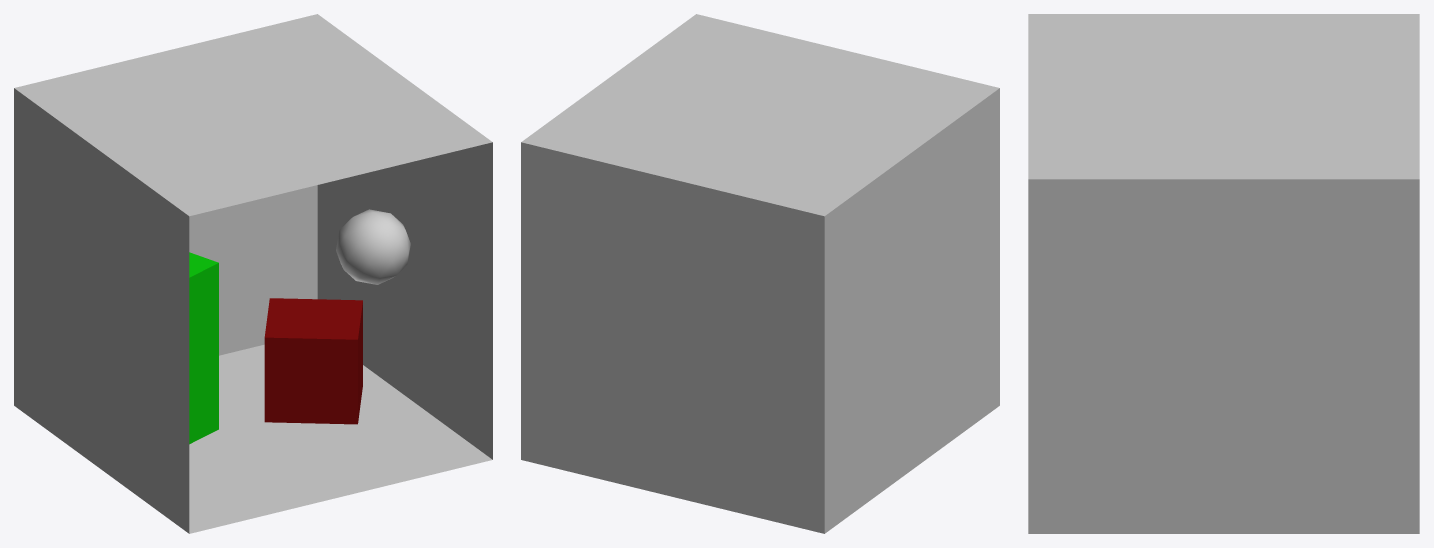
Rendered from Box_TransmissionSphere.obj.
The picture shows the model from 3 angles, left to right: view 1: azimuth 30°, elevation 25°; view 2: azimuth 150°, elevation 25°; view 3: azimuth 270°, elevation 25°; orthographic projection. The views are drawn at different scales.
Visible parts, largest first — view 1: Cube.001, Cube.002, Cube, Icosphere; view 2: Cube.001; view 3: Cube.001.
Part boxes in pixels (x1,y1,x2,y2): Cube.001: (14, 14, 492, 533); Cube.002: (264, 298, 362, 424); Cube: (189, 252, 218, 444); Icosphere: (336, 209, 410, 284); Cube.001: (521, 14, 999, 533); Cube.001: (1028, 14, 1419, 533).
Bounding box in the file's own units: 4 × 4 × 4.
